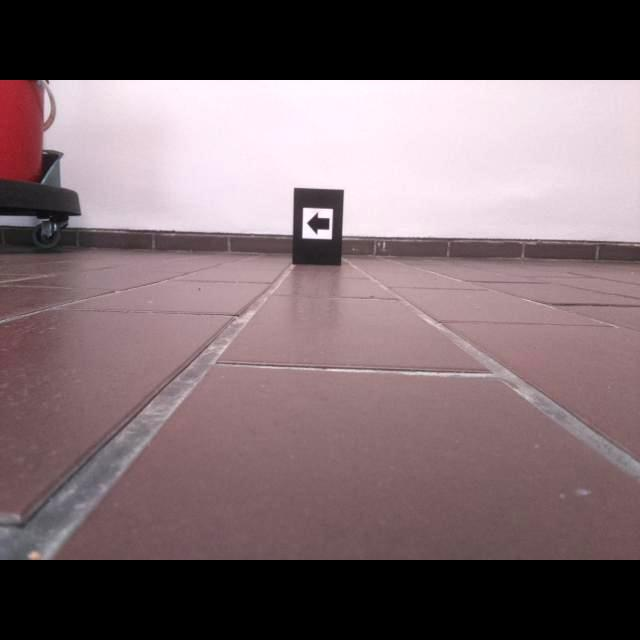LEFT: (306, 211, 330, 236)
